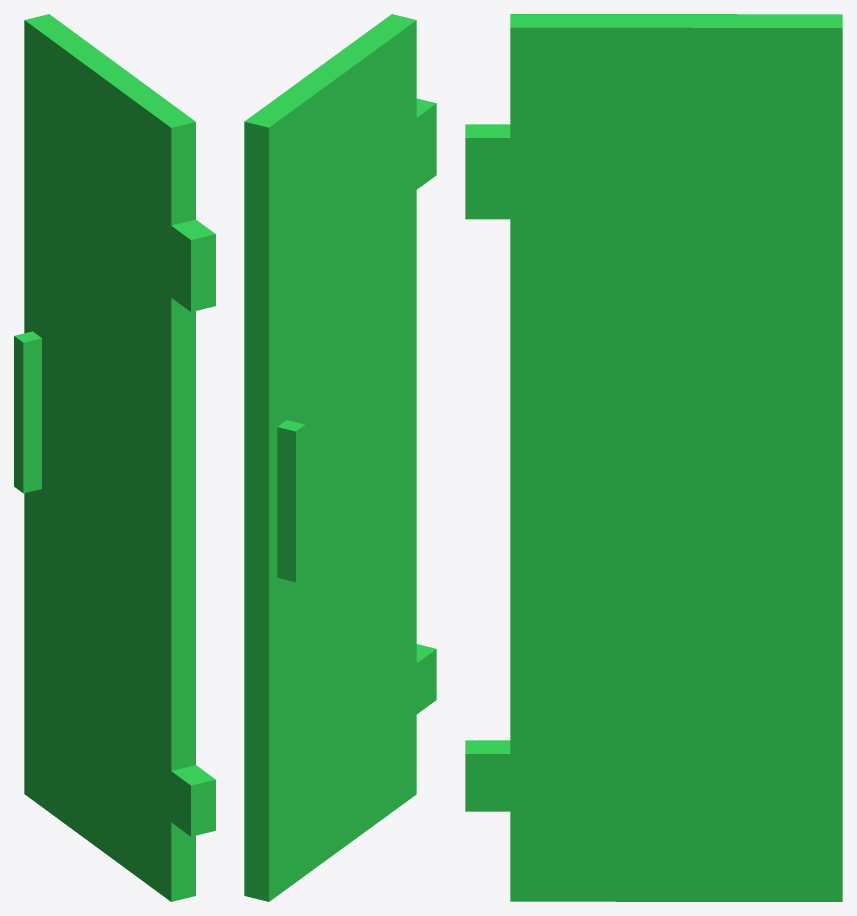
Rendered from Cupboard_Door_Right.fbx.
3 views of the same model, side by side, from view 1: azimuth 30°, elevation 25°; view 2: azimuth 150°, elevation 25°; view 3: azimuth 270°, elevation 25° (orthographic). The views are drawn at different scales.
Visible parts, largest first — view 1: Cube.110; view 2: Cube.110; view 3: Cube.110.
Part boxes in pixels (<box>): Cube.110: <box>14,14,215,901</box>; Cube.110: <box>244,14,436,901</box>; Cube.110: <box>465,14,842,901</box>.
Size of the model in its own units: 12.08 by 206 by 80.44.
